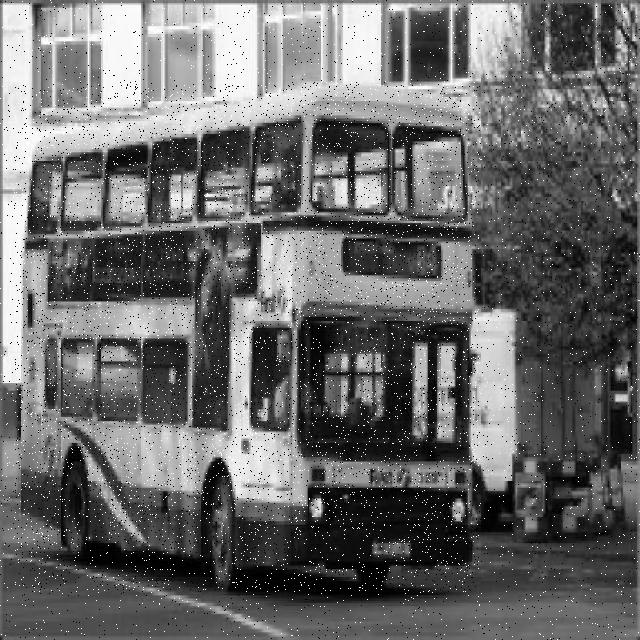Bus: (15, 84, 480, 592)
